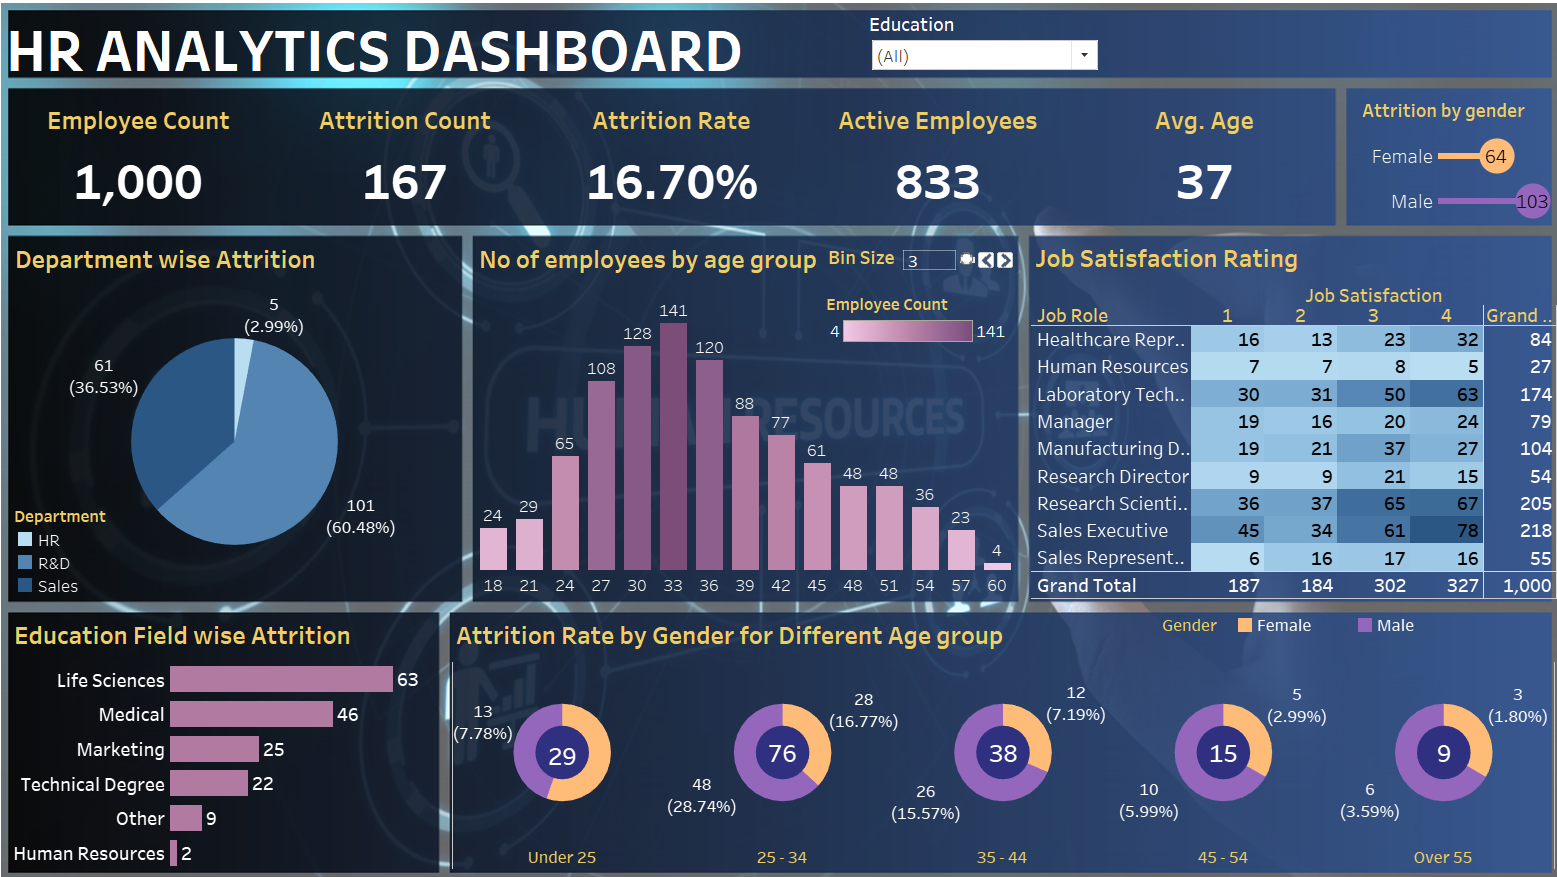

Layout of this report page (visuals, bound fields, positions):
{"tool":"tableau","page":{"name":"Dashboard 1","canvas":[1600,900],"ordinal":0},"visuals":[{"type":"image","param":"Image/HR background.png","box":[8,8,1584,884]},{"type":"filter","title":"Department wise Attrition","param":"[federated.1akg2y70099br51b38fow0ec4nma].[none:Education:nk]","box":[889,20,232,62]},{"type":"text","box":[22.5,25.3,869.7,63.8]},{"type":"worksheet","title":"Sheet 2","mark":"Automatic","rows":["Gender"],"cols":["Calculation_1501106072612589568","Calculation_1501106072612589568"],"box":[1377.5,102.3,197.8,129.8]},{"type":"worksheet","title":"Sheet 1","mark":"Automatic","box":[24.7,104.5,1332.6,125.4]},{"type":"worksheet","title":"Job Satisfaction Rating","mark":"Square","rows":["Job Role"],"cols":["Job Satisfaction"],"box":[1051,246,526,362]},{"type":"worksheet","title":"Department wise Attrition","mark":"Pie","box":[31,247,447,359]},{"type":"worksheet","title":"No of employees by age group","mark":"Automatic","rows":["Employee Count"],"cols":["Age (bin)"],"box":[495,247,540,360]},{"type":"parameter","param":"[Parameters].[Parameter 1]","box":[848,256,188,43]},{"type":"legend","title":"No of employees by age group","param":"[federated.1akg2y70099br51b38fow0ec4nma].[sum:Employee Count:qk]","box":[846,302,184,51]},{"type":"legend","title":"Department wise Attrition","param":"[federated.1akg2y70099br51b38fow0ec4nma].[none:Department:nk]","box":[34,514,124,92]},{"type":"worksheet","title":"Education Field wise Attrition","mark":"Automatic","rows":["Education Field"],"cols":["Calculation_1501106072612589568"],"box":[30,623,426,256]},{"type":"worksheet","title":"Attrition Rate by Gender for Different Age group","mark":"Pie","rows":["Calculation_617837600330240001","Calculation_617837600330240001"],"cols":["CF_age band"],"box":[472,623,1103,256]},{"type":"legend","title":"Attrition Rate by Gender for Different Age group","param":"[federated.1akg2y70099br51b38fow0ec4nma].[none:Gender:nk]","box":[1182,623,319,28]}]}

Visuals, with their boxes in screenshot pixels (x1, y1, x2, y2), scaled from the page's 1600x900 canvas onto the 1557x877 screenshot:
image: detection(8, 8, 1549, 869)
"Department wise Attrition" filter: detection(865, 19, 1091, 80)
text: detection(22, 25, 868, 87)
"Sheet 2" worksheet: detection(1340, 100, 1533, 226)
"Sheet 1" worksheet: detection(24, 102, 1321, 224)
"Job Satisfaction Rating" worksheet (Square marks): detection(1023, 240, 1535, 592)
"Department wise Attrition" worksheet (Pie marks): detection(30, 241, 465, 591)
"No of employees by age group" worksheet: detection(482, 241, 1007, 591)
parameter: detection(825, 249, 1008, 291)
"No of employees by age group" legend: detection(823, 294, 1002, 344)
"Department wise Attrition" legend: detection(33, 501, 154, 591)
"Education Field wise Attrition" worksheet: detection(29, 607, 444, 857)
"Attrition Rate by Gender for Different Age group" worksheet (Pie marks): detection(459, 607, 1533, 857)
"Attrition Rate by Gender for Different Age group" legend: detection(1150, 607, 1461, 634)
